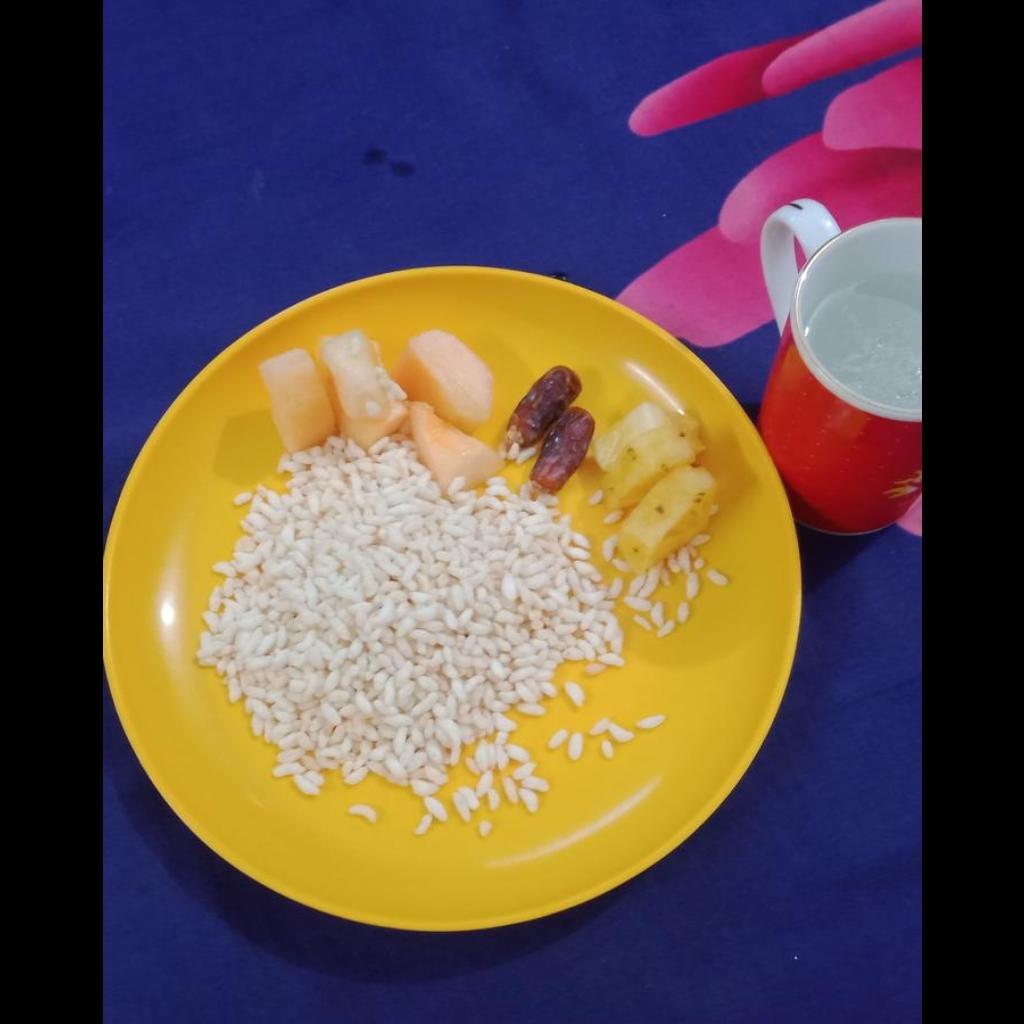dates: (505, 365, 592, 494)
juice: (803, 274, 920, 411)
papaya: (258, 330, 497, 487)
pineapple: (599, 402, 716, 562)
puffed-rice: (207, 447, 630, 789)
